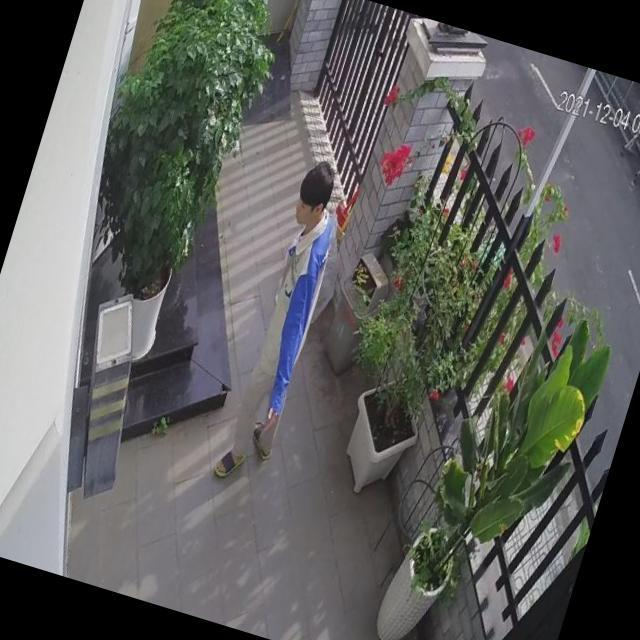person: (214, 157, 357, 489)
